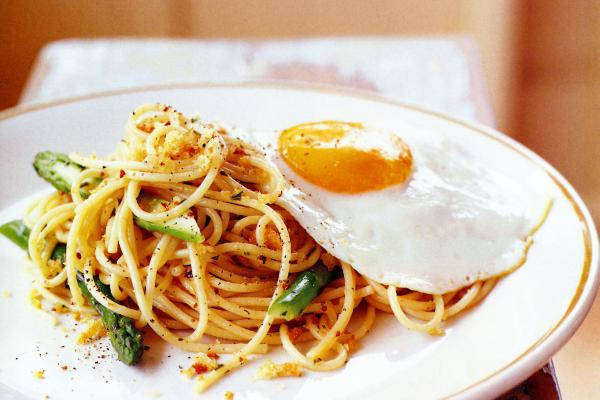fried egg: (32, 114, 395, 400), (266, 107, 559, 286)
